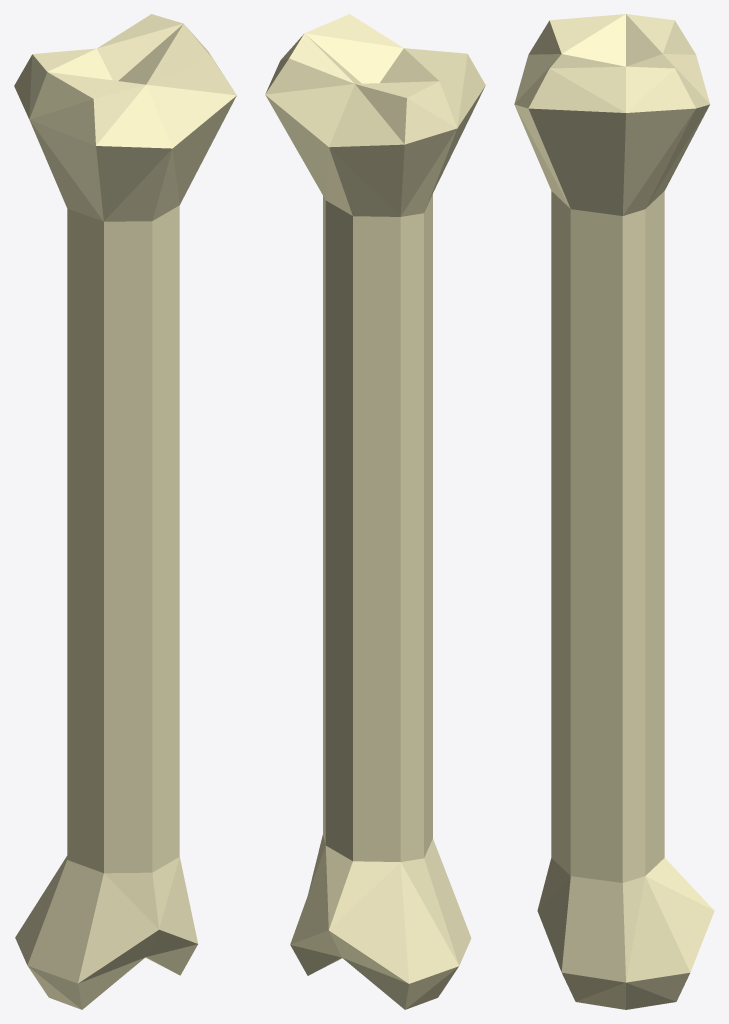
The model's file is Bone.fbx.
3 renders of one model, left to right at view 1: azimuth 30°, elevation 25°; view 2: azimuth 150°, elevation 25°; view 3: azimuth 270°, elevation 25°, orthographic. The views are drawn at different scales.
Visible parts, largest first — view 1: Bone; view 2: Bone; view 3: Bone.
Part boxes in pixels (x1,y1,x2,y2): Bone: (14,14,236,1009); Bone: (265,14,485,1009); Bone: (514,14,714,1009).
Bounding box in the file's own units: 0.0577 × 0.2872 × 0.0541.
